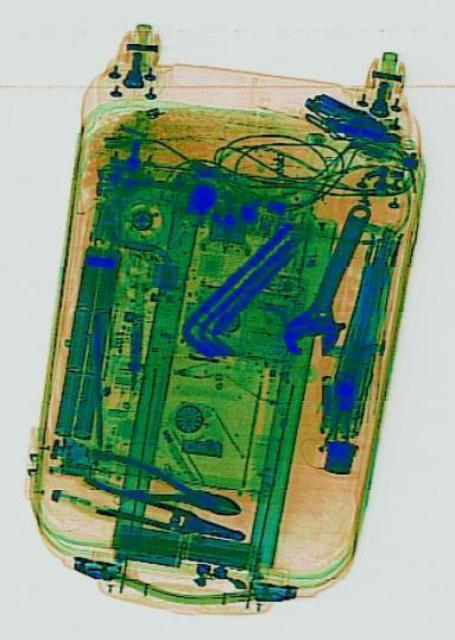Pliers: (80, 440, 243, 534), (94, 486, 243, 548)
Wrench: (274, 188, 385, 370)
